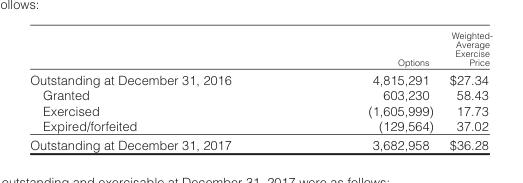table: (29, 29, 491, 152)
table column: (29, 29, 299, 152), (299, 29, 440, 152), (440, 29, 491, 152)
table column header: (29, 29, 491, 69)
table row: (29, 29, 491, 69), (29, 134, 491, 152), (29, 69, 491, 86), (29, 117, 491, 134), (29, 86, 491, 102), (29, 102, 491, 117)
